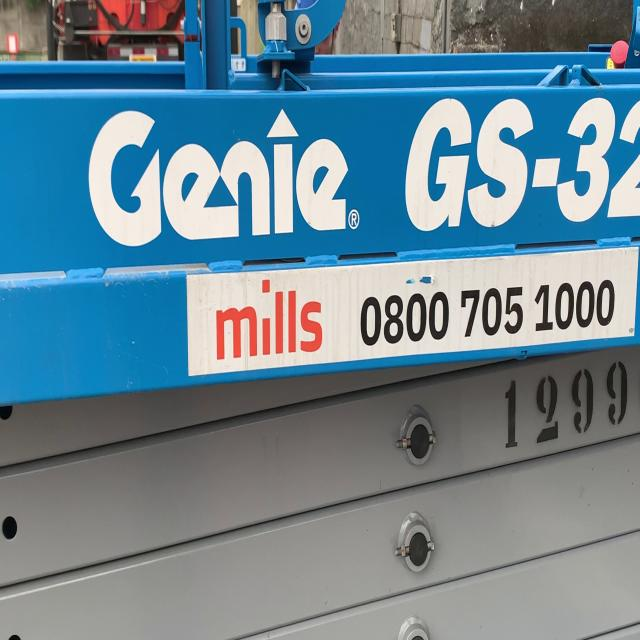Adesivo Longo: (185, 242, 640, 379)
